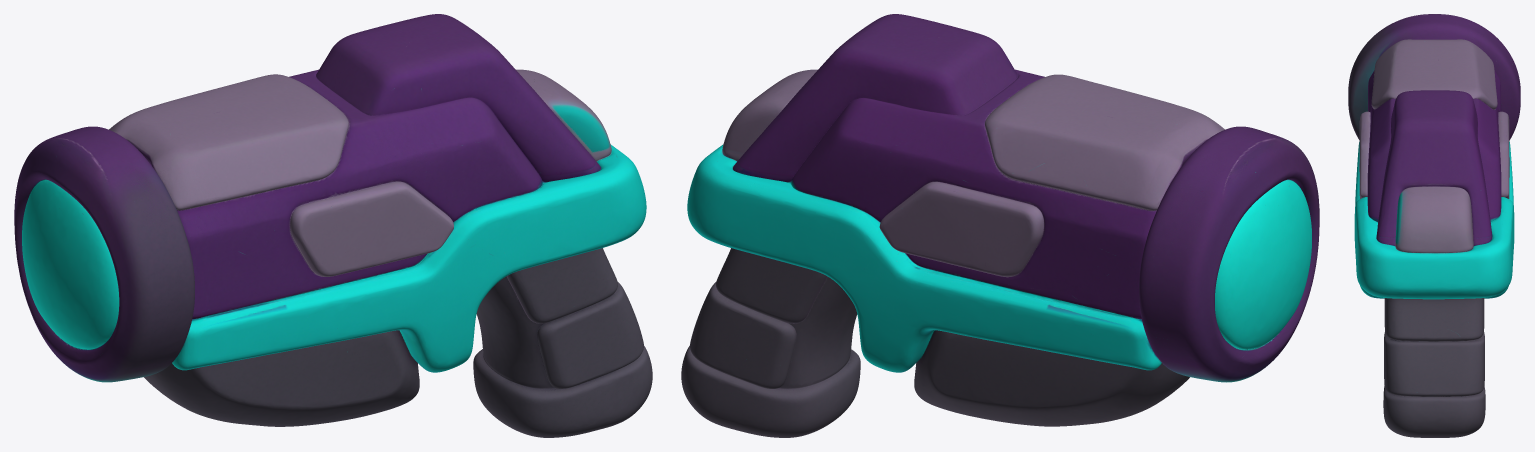
The model's file is iska_waffe_original.glb.
3 renders of one model, left to right at view 1: azimuth 30°, elevation 25°; view 2: azimuth 150°, elevation 25°; view 3: azimuth 270°, elevation 25°, orthographic. The views are drawn at different scales.
Bounding box in the file's own units: 1.9 × 1.29 × 0.73.
Materials: 1 (1 with a texture image).
